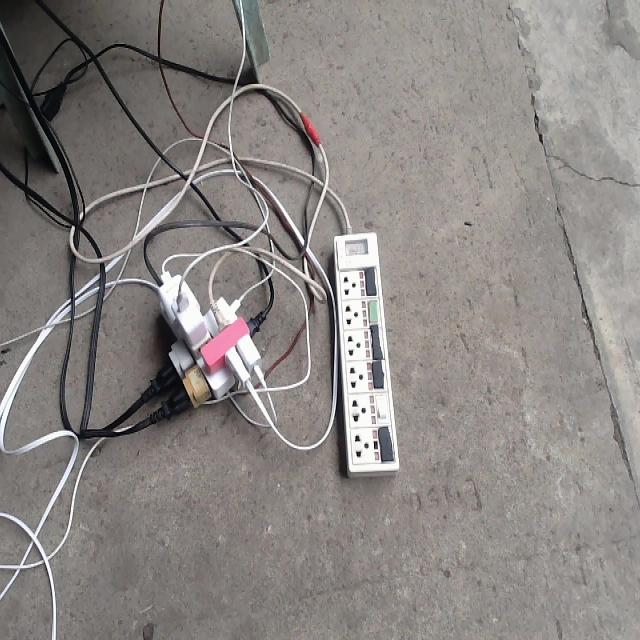-: (148, 269, 260, 416)
